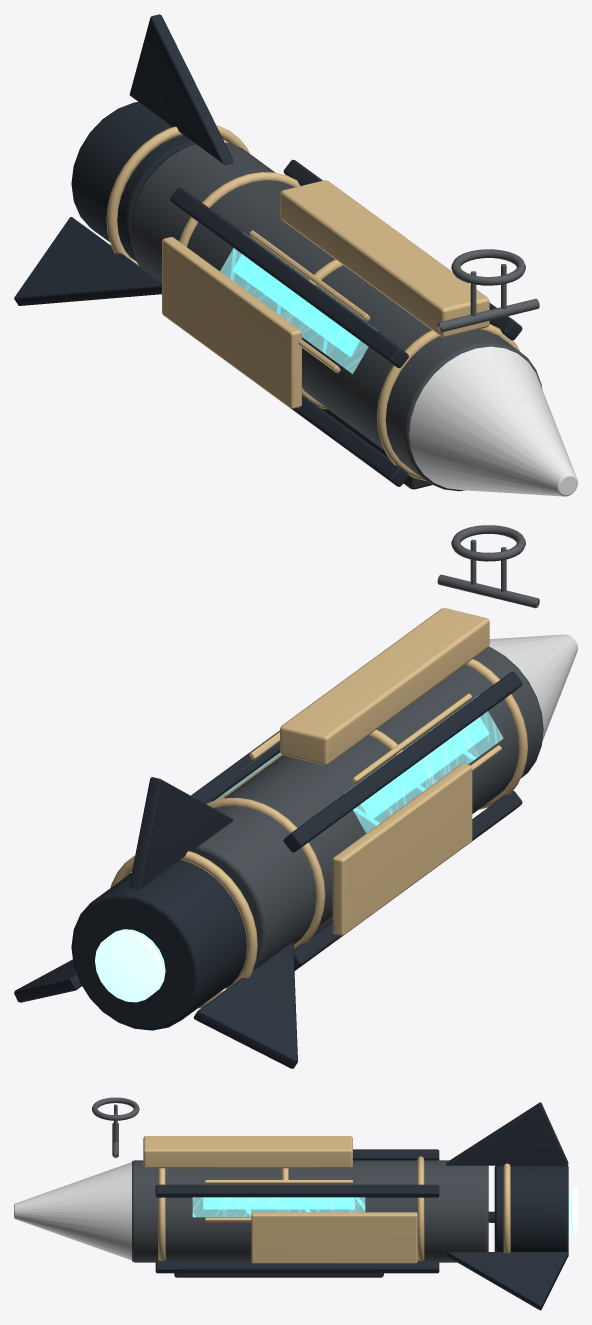
The model's file is hp_ability_protocol_breach_missile_v1.glb.
3 views of the same model, one above another, from view 1: azimuth 30°, elevation 25°; view 2: azimuth 150°, elevation 25°; view 3: azimuth 270°, elevation 25° (orthographic). The views are drawn at different scales.
Visible parts, largest first — view 1: breach_missile_graphite_main_body, breach_missile_scraped_nose_cone, breach_missile_top_arming_spine, breach_missile_left_service_plate, breach_missile_tail_nozzle_dark, breach_missile_tail_fin_1, breach_missile_tail_fin_0, breach_missile_longitudinal_black_rail_1, breach_missile_generated_cyan_window_1, breach_missile_longitudinal_black_rail_2, breach_missile_brass_lock_ring_3, breach_missile_brass_lock_ring_0 (+5 smaller); view 2: breach_missile_graphite_main_body, breach_missile_tail_nozzle_dark, breach_missile_top_arming_spine, breach_missile_left_service_plate, breach_missile_tail_fin_1, breach_missile_tail_fin_0, breach_missile_longitudinal_black_rail_1, breach_missile_generated_cyan_window_1, breach_missile_exhaust_core_cyan, breach_missile_scraped_nose_cone, breach_missile_brass_lock_ring_3, breach_missile_longitudinal_black_rail_2 (+7 smaller); view 3: breach_missile_graphite_main_body, breach_missile_right_service_plate, breach_missile_top_arming_spine, breach_missile_scraped_nose_cone, breach_missile_tail_nozzle_dark, breach_missile_tail_fin_0, breach_missile_longitudinal_black_rail_0, breach_missile_tail_fin_2, breach_missile_longitudinal_black_rail_3, breach_missile_generated_cyan_window_0, breach_missile_lower_rubber_grip_pad, breach_missile_longitudinal_black_rail_1 (+6 smaller).
Boxes of the visible parts, box(x1,y1,x2,y2) form: breach_missile_graphite_main_body: box(129, 142, 542, 491); breach_missile_scraped_nose_cone: box(409, 346, 577, 496); breach_missile_top_arming_spine: box(280, 180, 489, 337); breach_missile_left_service_plate: box(162, 237, 301, 408); breach_missile_tail_nozzle_dark: box(71, 102, 195, 261); breach_missile_tail_fin_1: box(14, 217, 161, 305); breach_missile_tail_fin_0: box(129, 14, 233, 165); breach_missile_longitudinal_black_rail_1: box(170, 187, 408, 367); breach_missile_generated_cyan_window_1: box(220, 232, 377, 373); breach_missile_longitudinal_black_rail_2: box(291, 395, 408, 486); breach_missile_brass_lock_ring_3: box(106, 125, 249, 265); breach_missile_brass_lock_ring_0: box(377, 324, 520, 480); breach_missile_graphite_main_body: box(191, 646, 543, 988); breach_missile_tail_nozzle_dark: box(71, 859, 246, 1030); breach_missile_top_arming_spine: box(280, 608, 489, 765); breach_missile_left_service_plate: box(332, 763, 472, 935); breach_missile_tail_fin_1: box(193, 941, 297, 1068); breach_missile_tail_fin_0: box(129, 777, 233, 889); breach_missile_longitudinal_black_rail_1: box(283, 671, 522, 852); breach_missile_generated_cyan_window_1: box(344, 695, 503, 832); breach_missile_exhaust_core_cyan: box(95, 929, 165, 1002); breach_missile_scraped_nose_cone: box(489, 634, 577, 741); breach_missile_brass_lock_ring_3: box(110, 851, 257, 1008); breach_missile_longitudinal_black_rail_2: box(293, 790, 522, 970); breach_missile_graphite_main_body: box(132, 1160, 488, 1262); breach_missile_right_service_plate: box(251, 1212, 417, 1263); breach_missile_top_arming_spine: box(143, 1136, 352, 1168); breach_missile_scraped_nose_cone: box(14, 1162, 131, 1260); breach_missile_tail_nozzle_dark: box(494, 1165, 568, 1256); breach_missile_tail_fin_0: box(446, 1102, 568, 1165); breach_missile_longitudinal_black_rail_0: box(155, 1184, 439, 1197); breach_missile_tail_fin_2: box(446, 1252, 568, 1310); breach_missile_longitudinal_black_rail_3: box(155, 1260, 439, 1273); breach_missile_generated_cyan_window_0: box(192, 1197, 365, 1217); breach_missile_lower_rubber_grip_pad: box(174, 1273, 383, 1277); breach_missile_longitudinal_black_rail_1: box(353, 1149, 439, 1160).
Bounding box in the file's own units: 0.339 × 0.2958 × 0.915.
Materials: 8 (1 with a texture image).
